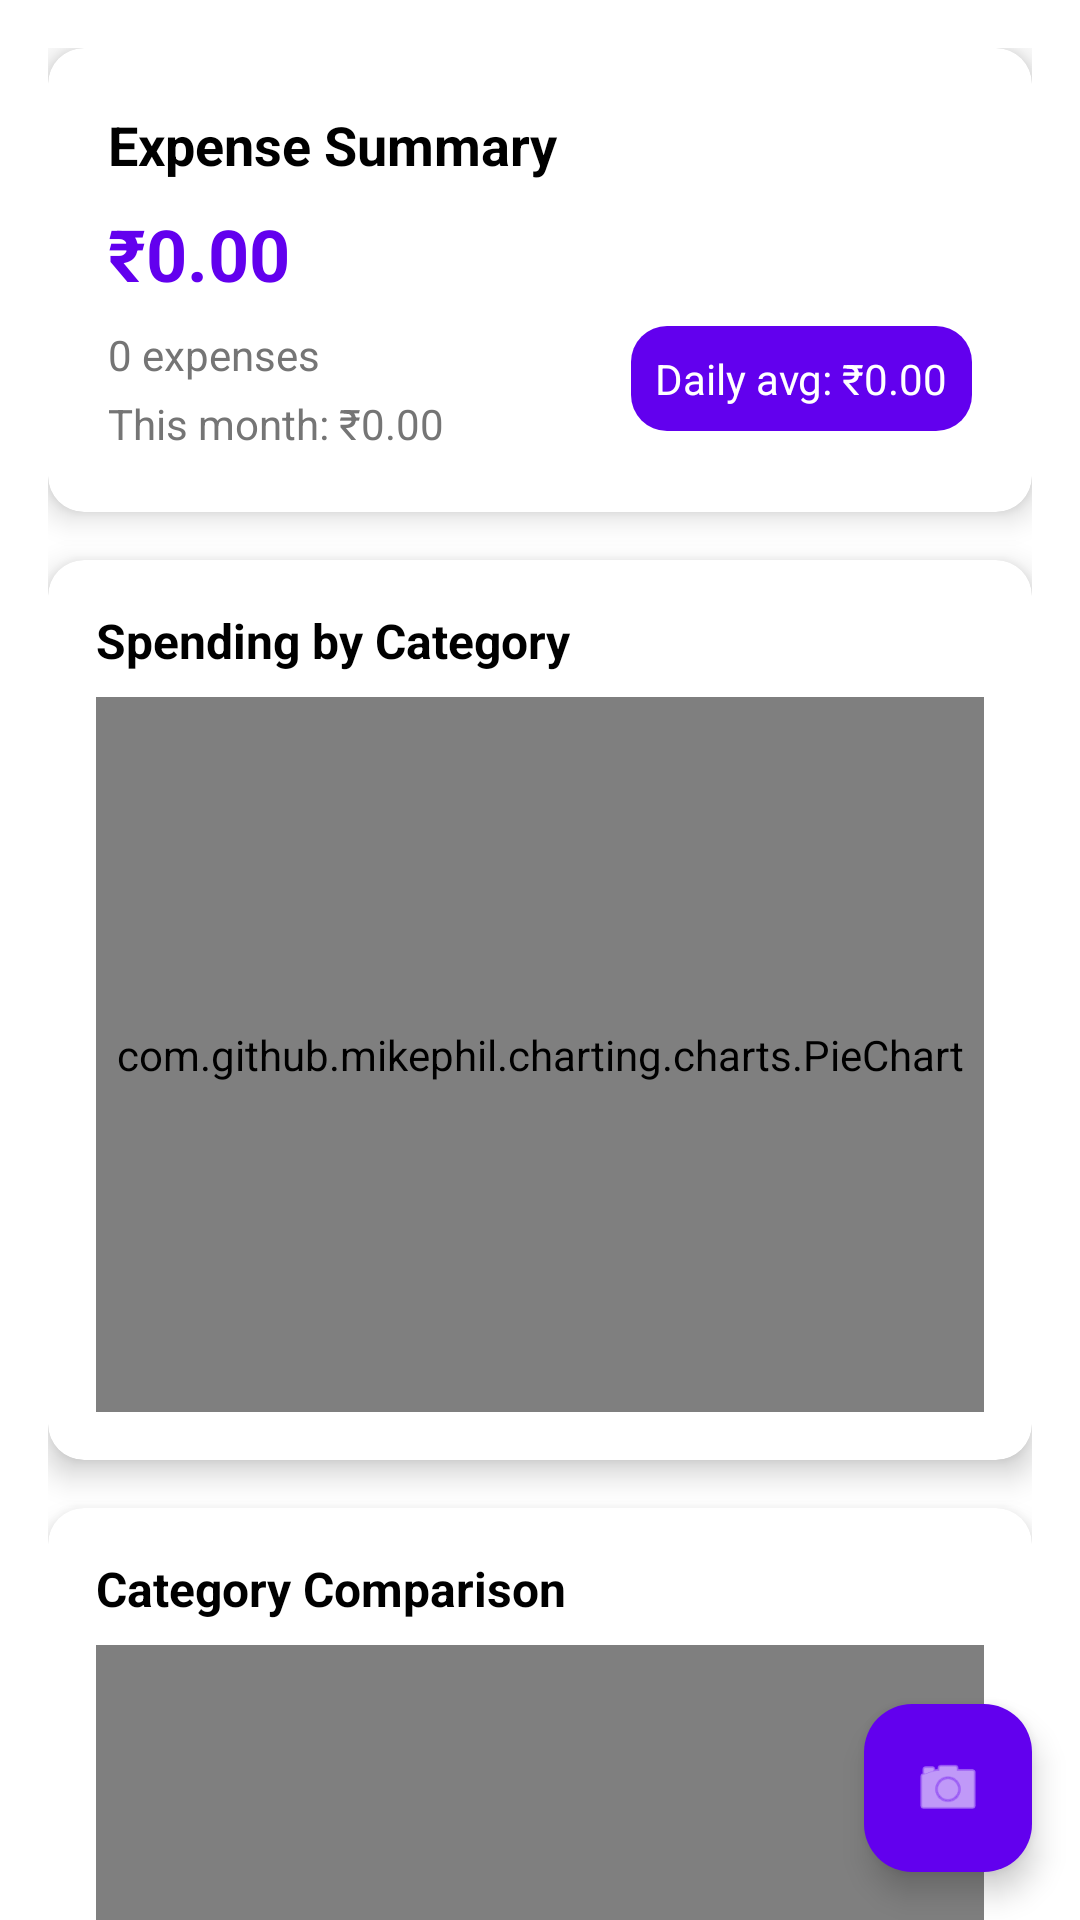

Locate icon controls on the screen. Image size 1080x1920, boxes as (x1, y1, x2, y2).
Upload Receipt: (864, 1704, 1032, 1872)
